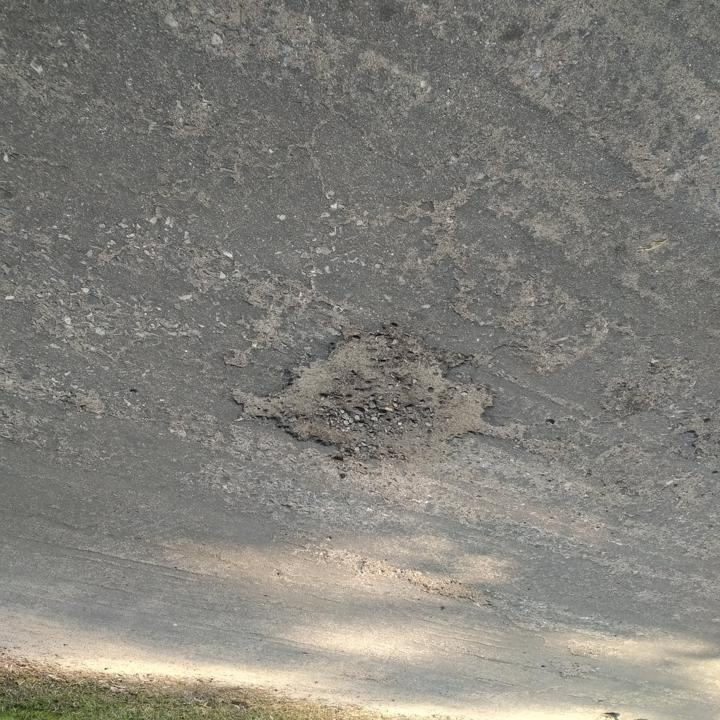pothole: (225, 328, 528, 467)
